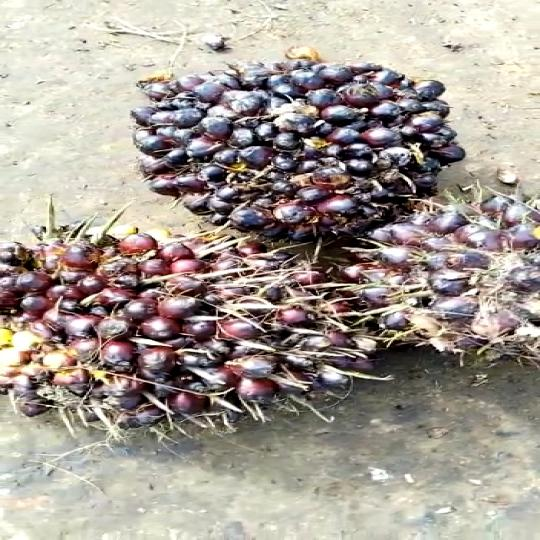kurang masak: (0, 216, 411, 424), (124, 51, 462, 236), (348, 187, 540, 358)
